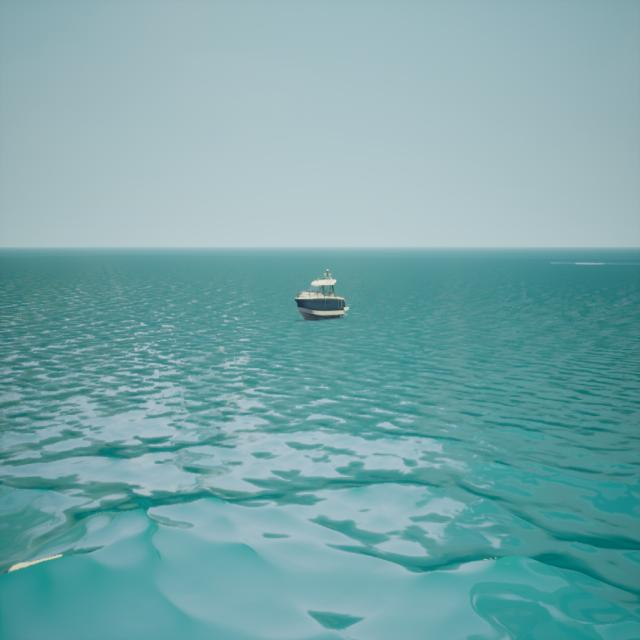ship: (293, 266, 348, 319)
